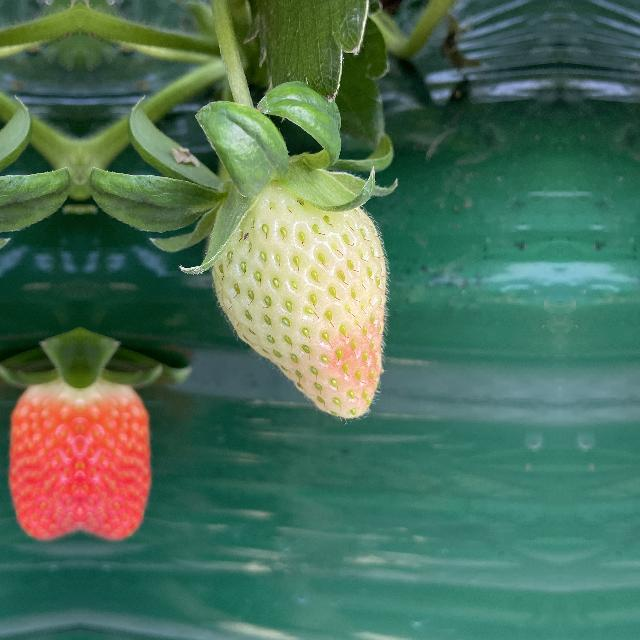Health_100: (80, 376, 154, 542), (6, 376, 80, 542)
Health_50: (207, 172, 393, 424)
